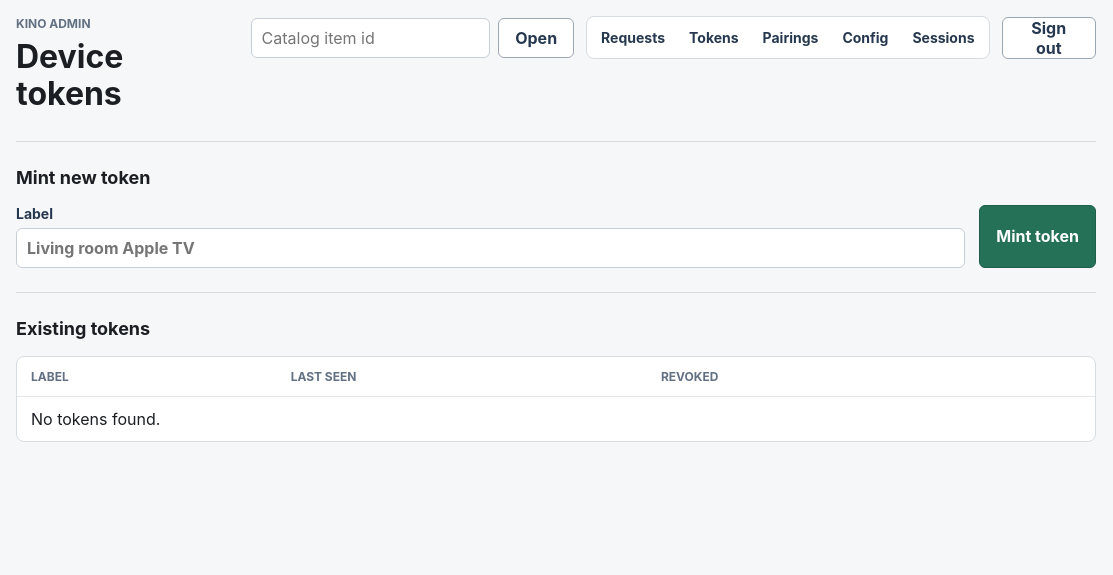
displays a freshly minted plaintext token once
Expected: the text "No tokens found." is shown, [17,397,1095,441]
Type "Desk browser" into the field labelled "Label" at (491,248), box [16,228,965,268]
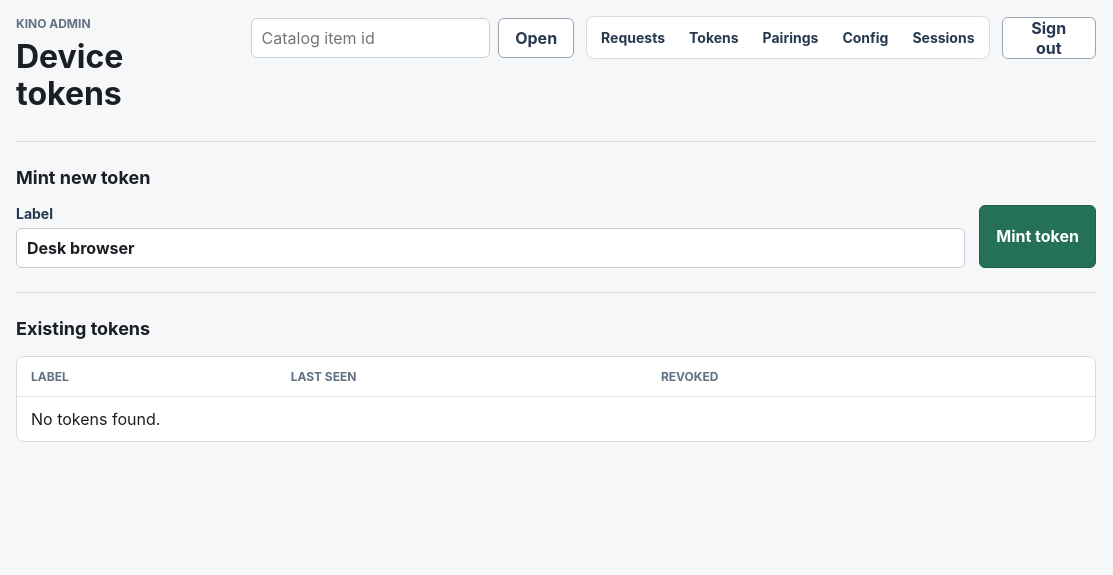
Click the button "Mint token" at (1038,236), box [979,205,1096,268]
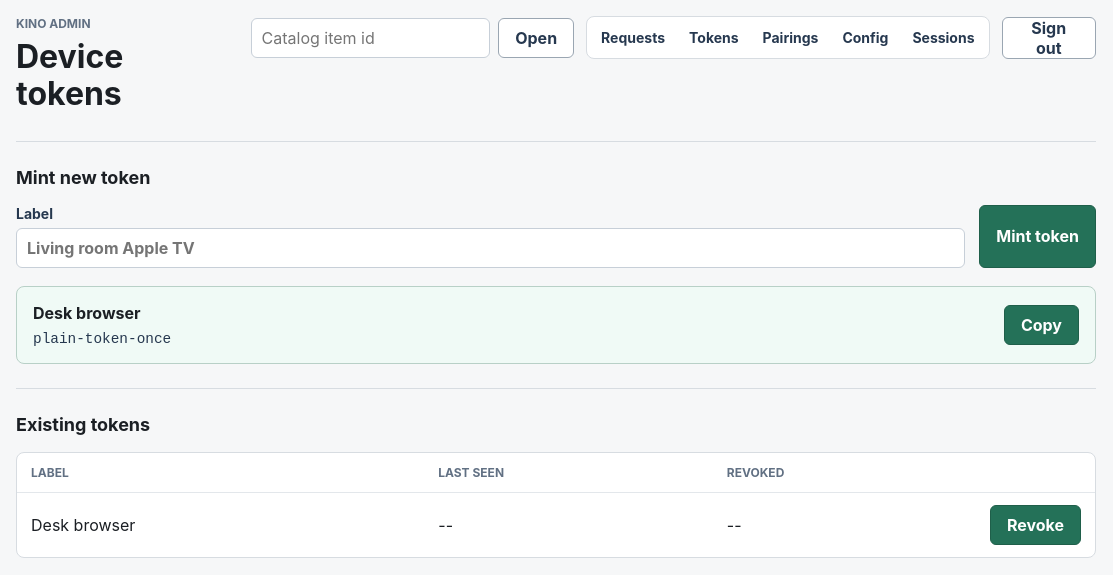
Expected: the text "plain-token-once" is shown, [33,331,171,347]
Click the button "Copy" at (1041,325), box [1004,305,1079,345]
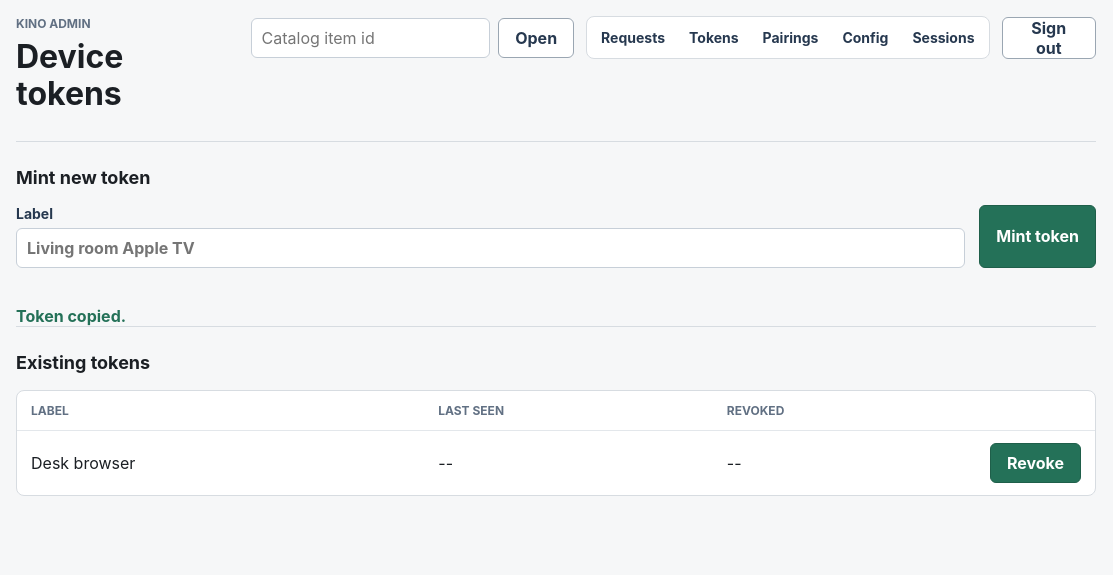
Expected: the text "plain-token-once" is gone
